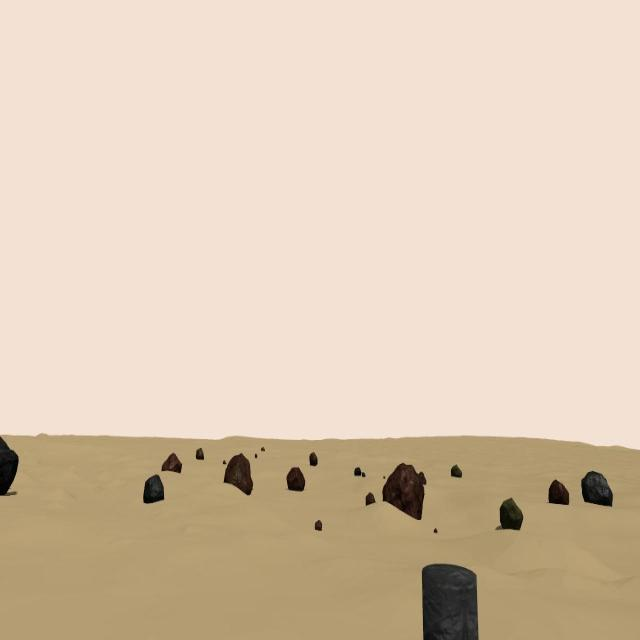rock: (382, 462, 424, 521), (223, 454, 253, 495), (581, 471, 613, 508), (0, 434, 19, 493), (501, 497, 523, 529), (144, 475, 164, 505), (286, 466, 306, 492), (549, 480, 569, 504), (162, 452, 182, 474), (451, 462, 462, 478), (366, 492, 376, 506), (417, 472, 426, 486), (195, 448, 204, 460), (309, 452, 317, 465), (314, 520, 322, 530), (355, 467, 361, 476), (260, 446, 264, 452), (433, 526, 437, 532), (222, 459, 226, 464), (361, 472, 365, 477), (254, 454, 258, 458), (383, 474, 385, 479)
